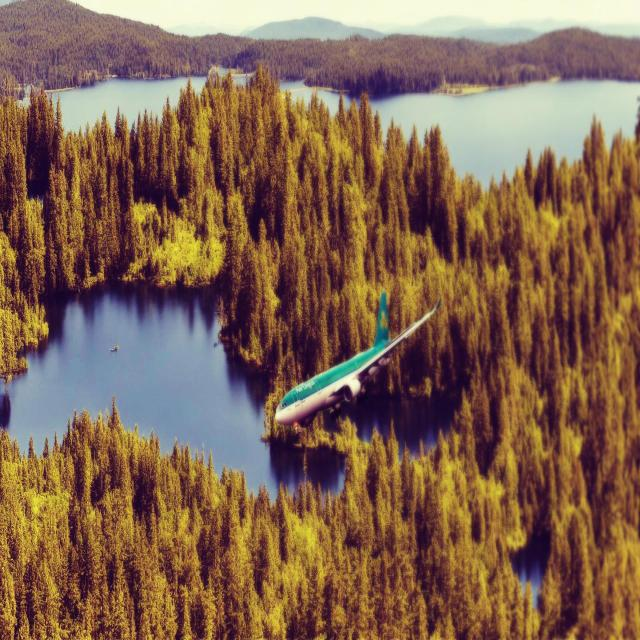airplane: (275, 289, 441, 432)
